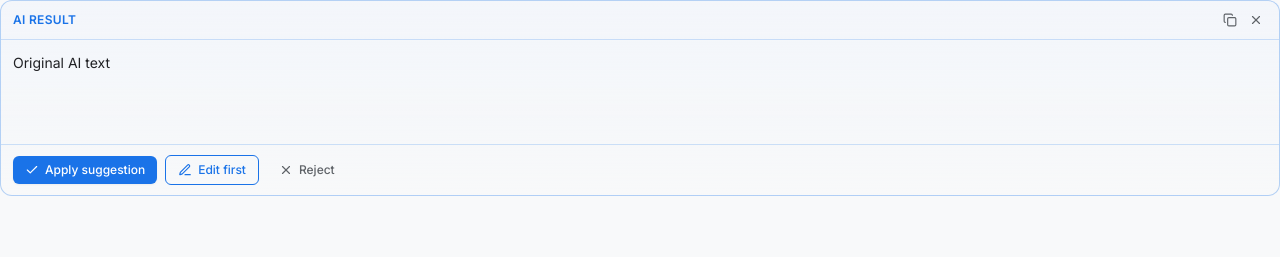
Test case: AIResultCard › edit mode › enters edit mode when Edit first is clicked
Step 1. Click the button "Edit first" → (212, 170), box [165,155,259,185]
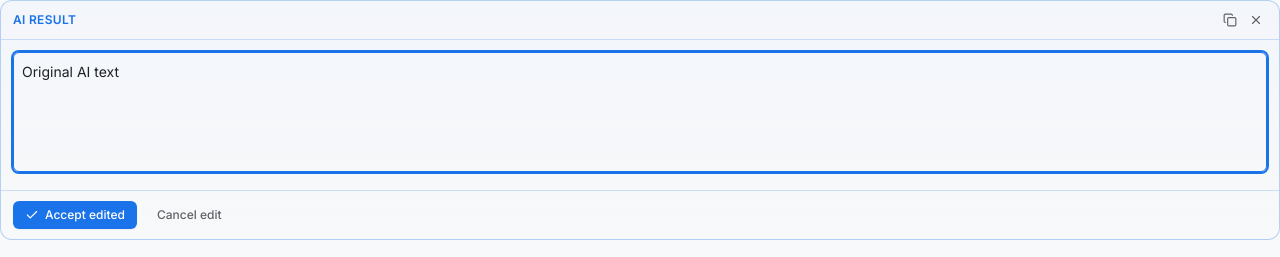
Expected: the text box is shown, [13,52,1267,172]
Expected: the button "Accept edited" is shown, [13,201,137,229]
